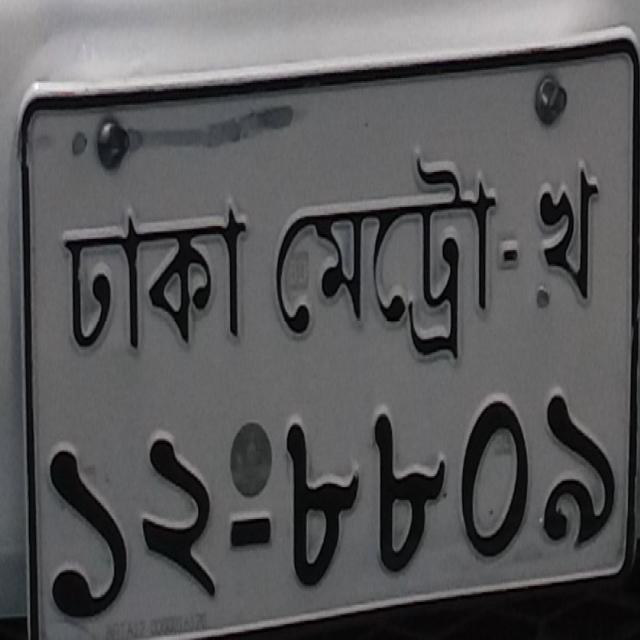numberplate: (14, 24, 638, 637)
